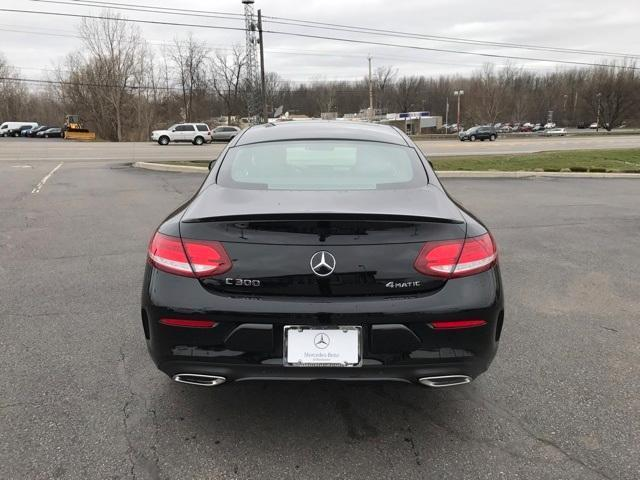C300Coupe: (137, 111, 518, 401)
